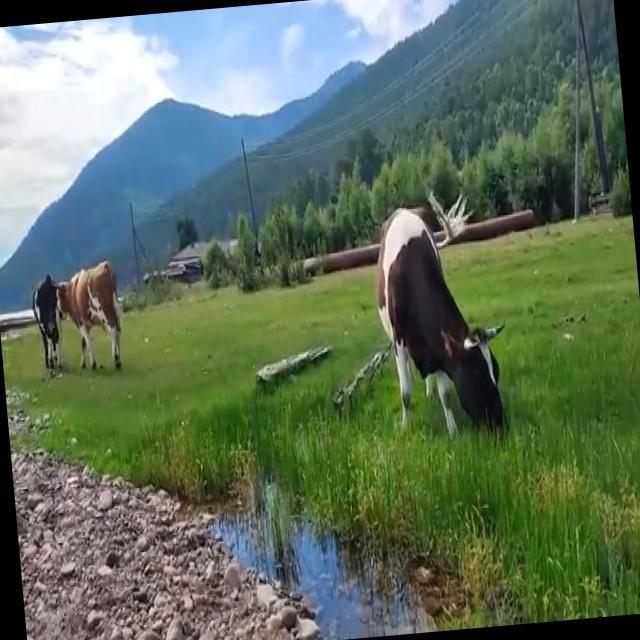COW: (303, 209, 455, 428), (33, 261, 119, 368), (454, 321, 496, 375)
